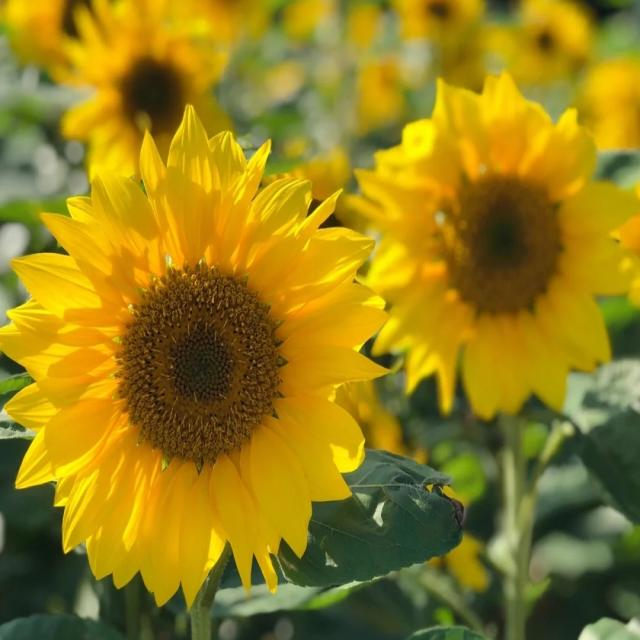sunflower: (9, 101, 390, 615), (342, 65, 640, 436)
